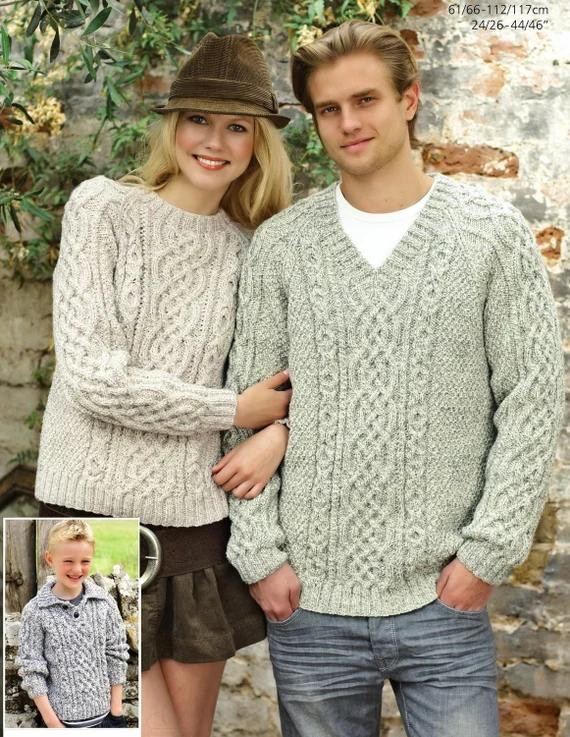skirt: (32, 507, 272, 673)
sweater: (225, 170, 564, 619), (34, 173, 258, 528), (16, 575, 128, 722)
trousers: (266, 598, 501, 737)
